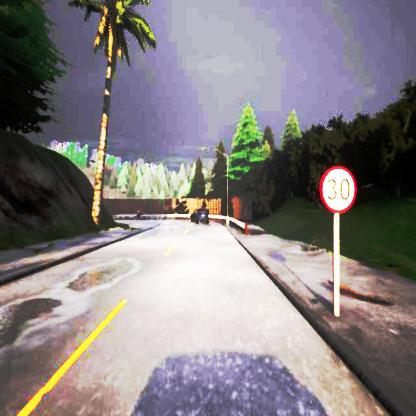vehicle: (191, 208, 209, 224)
